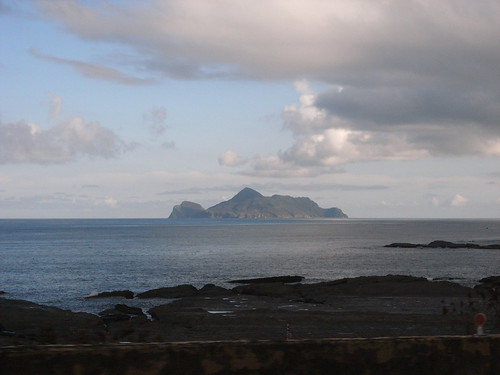turtleIslandLeft: (166, 185, 346, 220)
